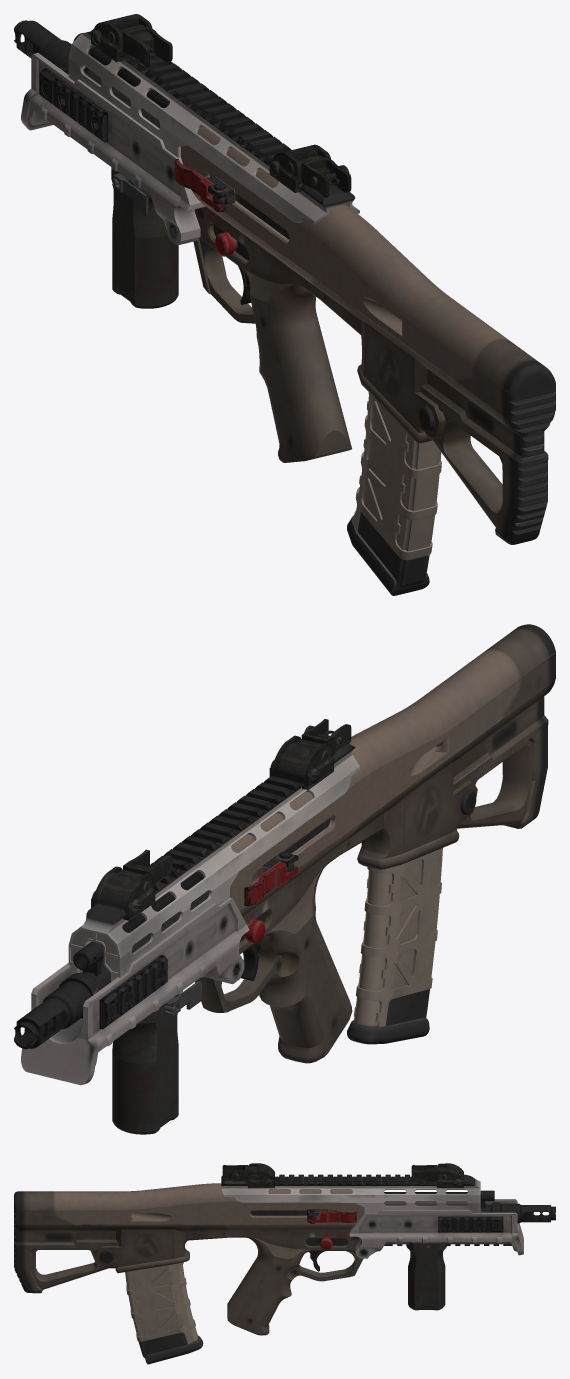
The model's file is bullpup.glb.
3 views of the same model, one above another, from view 1: azimuth 30°, elevation 25°; view 2: azimuth 150°, elevation 25°; view 3: azimuth 270°, elevation 25° (orthographic). The views are drawn at different scales.
Parts seen in each view (by area): view 1: Body, Magazine; view 2: Body, Magazine; view 3: Body, Magazine.
Part boxes in pixels (left/top/right/bottom): Body: left=14, top=14, right=555, bottom=544; Magazine: left=347, top=359, right=441, bottom=595; Body: left=14, top=624, right=555, bottom=1134; Magazine: left=347, top=796, right=459, bottom=1044; Body: left=14, top=1163, right=555, bottom=1335; Magazine: left=116, top=1247, right=203, bottom=1364.
Bounding box in the file's own units: 0.0653 × 0.283 × 0.72.
Materials: 29 (29 with a texture image).
